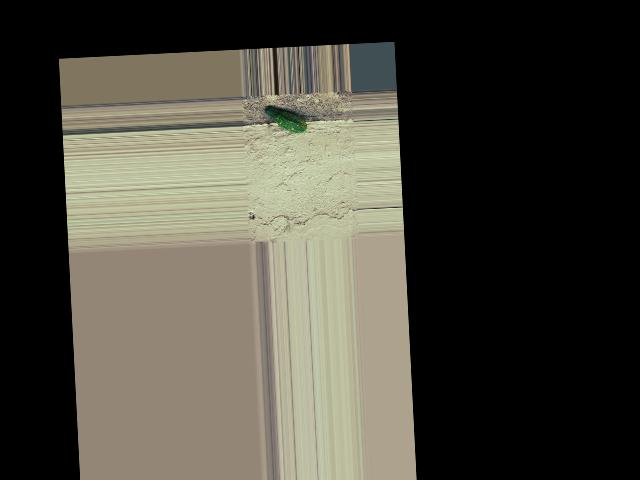cucumber: (266, 104, 307, 135)
